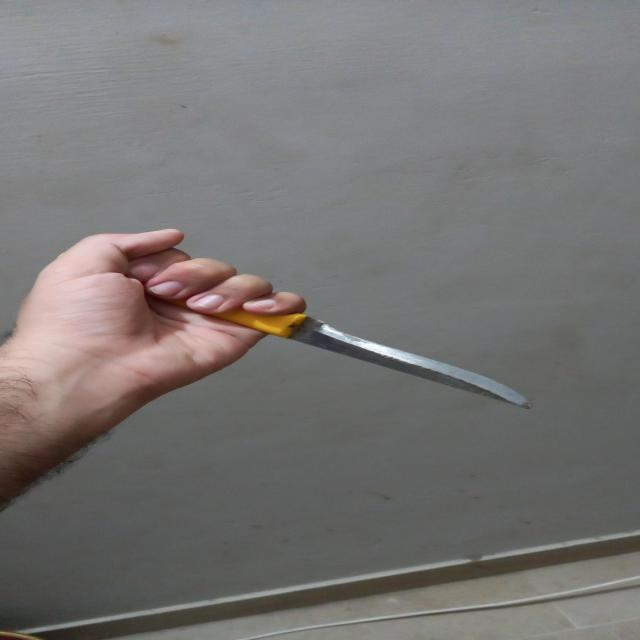Knife: (151, 288, 535, 411)
Person: (0, 228, 312, 510)
